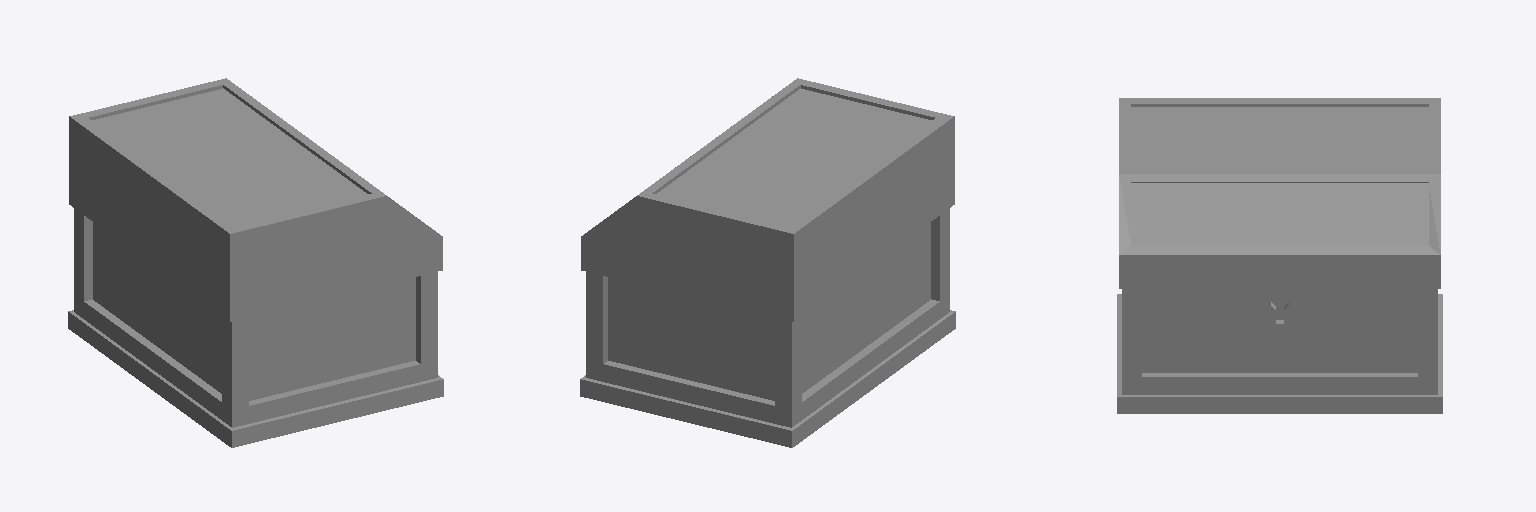
Rendered from chest-6.obj.
The picture shows the model from 3 angles: view 1: azimuth 30°, elevation 25°; view 2: azimuth 150°, elevation 25°; view 3: azimuth 270°, elevation 25°; orthographic projection.
Parts seen in each view (by area): view 1: box_Cube; view 2: box_Cube; view 3: box_Cube.
Part boxes in pixels (x1,y1,x2,y2): box_Cube: (68,78,443,447); box_Cube: (580,78,955,447); box_Cube: (1117,98,1442,413).
Size of the model in its own units: 0.6202 by 0.5951 by 0.8257.